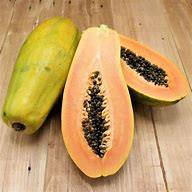papaya: (62, 26, 134, 178), (118, 34, 191, 107)
